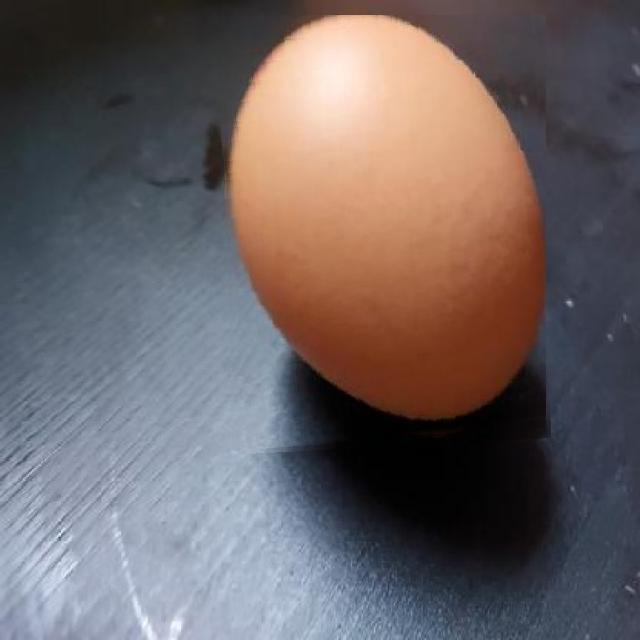biodegradable: (222, 15, 546, 451)
